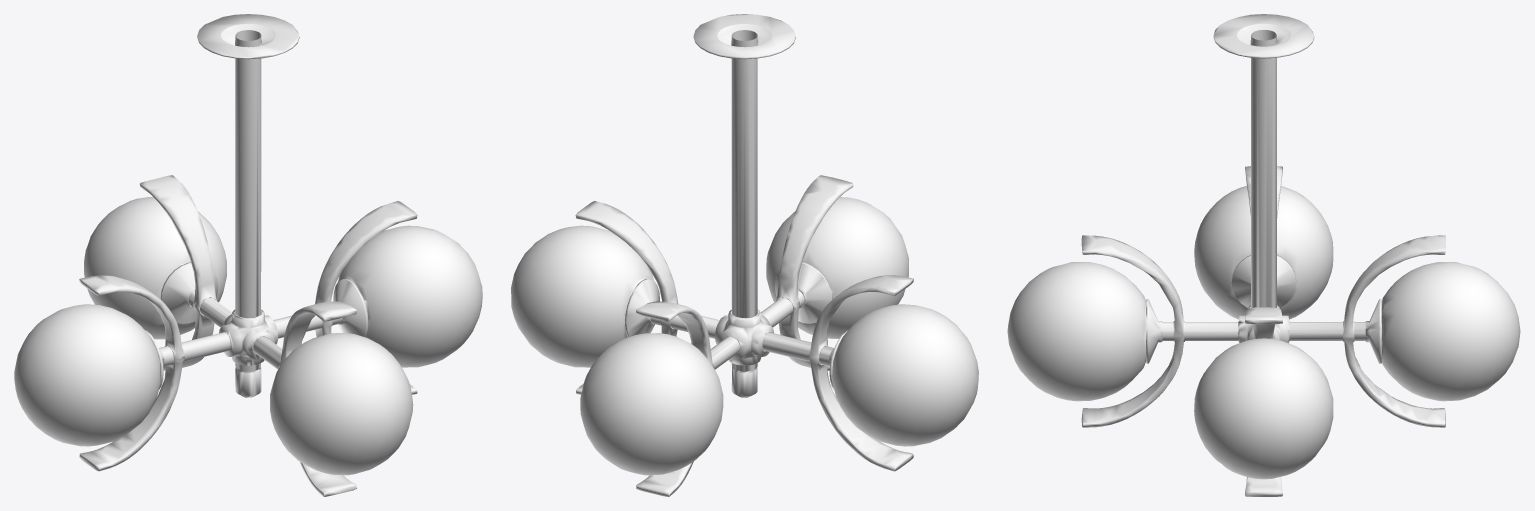
File: pendant_dome.glb
The picture shows the model from 3 angles, left to right: view 1: azimuth 30°, elevation 25°; view 2: azimuth 150°, elevation 25°; view 3: azimuth 270°, elevation 25°; orthographic projection.
Parts seen in each view (by area): view 1: LampGlass_0003, LampMetal_0001; view 2: LampGlass_0003, LampMetal_0001; view 3: LampGlass_0003, LampMetal_0001.
Part boxes in pixels (box(x1,y1,x2,y2)): LampGlass_0003: box(14, 197, 482, 475); LampMetal_0001: box(79, 14, 417, 496); LampGlass_0003: box(511, 197, 978, 475); LampMetal_0001: box(575, 14, 913, 496); LampGlass_0003: box(1007, 186, 1520, 479); LampMetal_0001: box(1081, 14, 1446, 496).
Bounding box in the file's own units: 0.5408 × 0.4478 × 0.5408.
2 materials, 2 textured.
